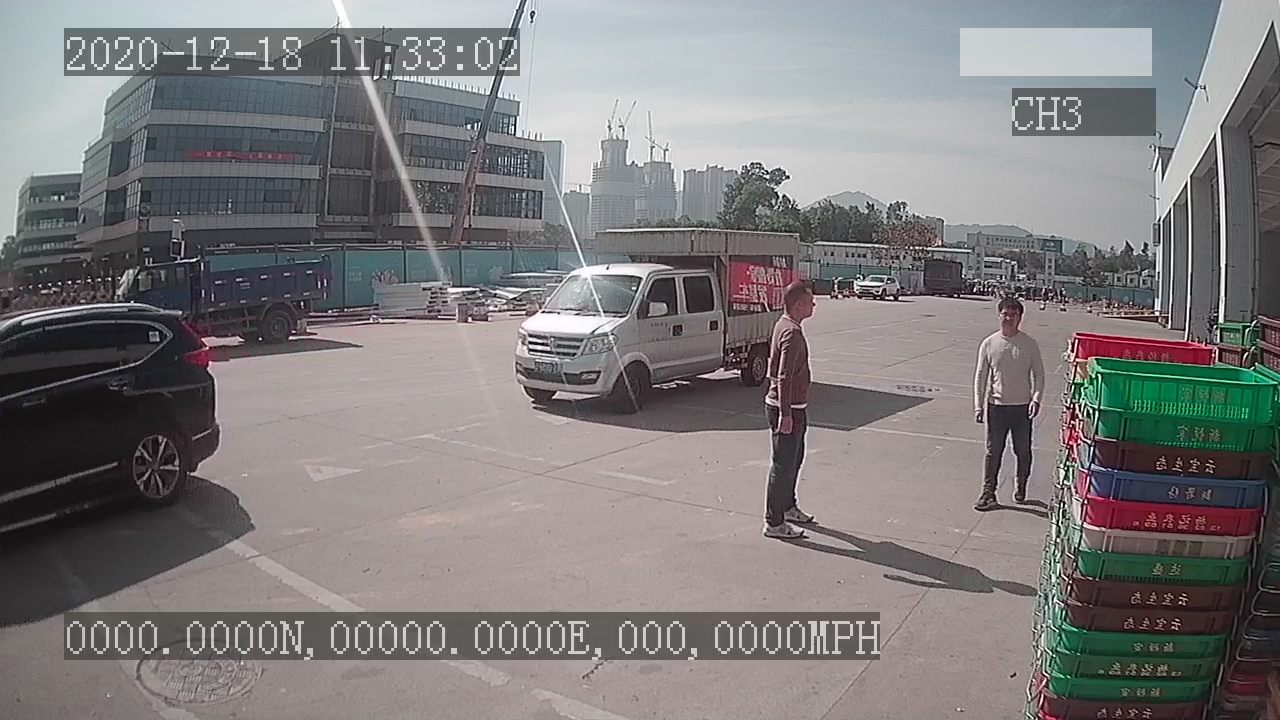person: (969, 291, 1047, 514)
